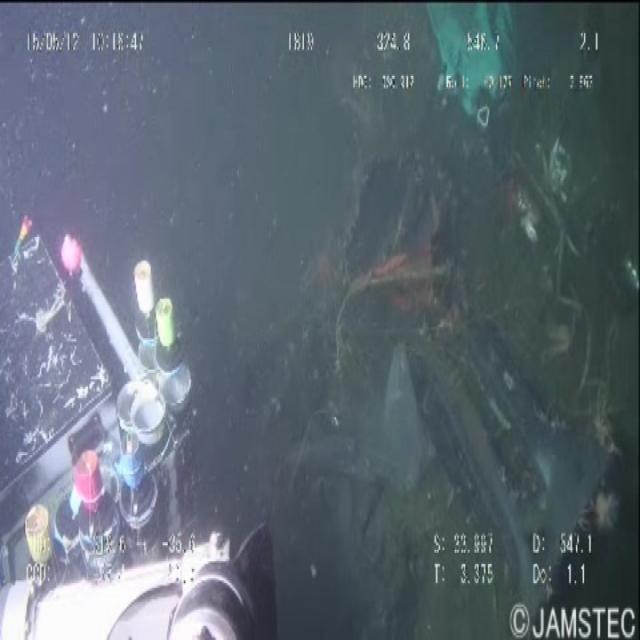Accessories: (418, 2, 544, 130)
Litter: (500, 163, 549, 262), (549, 130, 584, 212)
Metal: (396, 307, 628, 640)
Natual-Debris: (315, 237, 460, 385)
Plastic: (286, 327, 436, 512)
